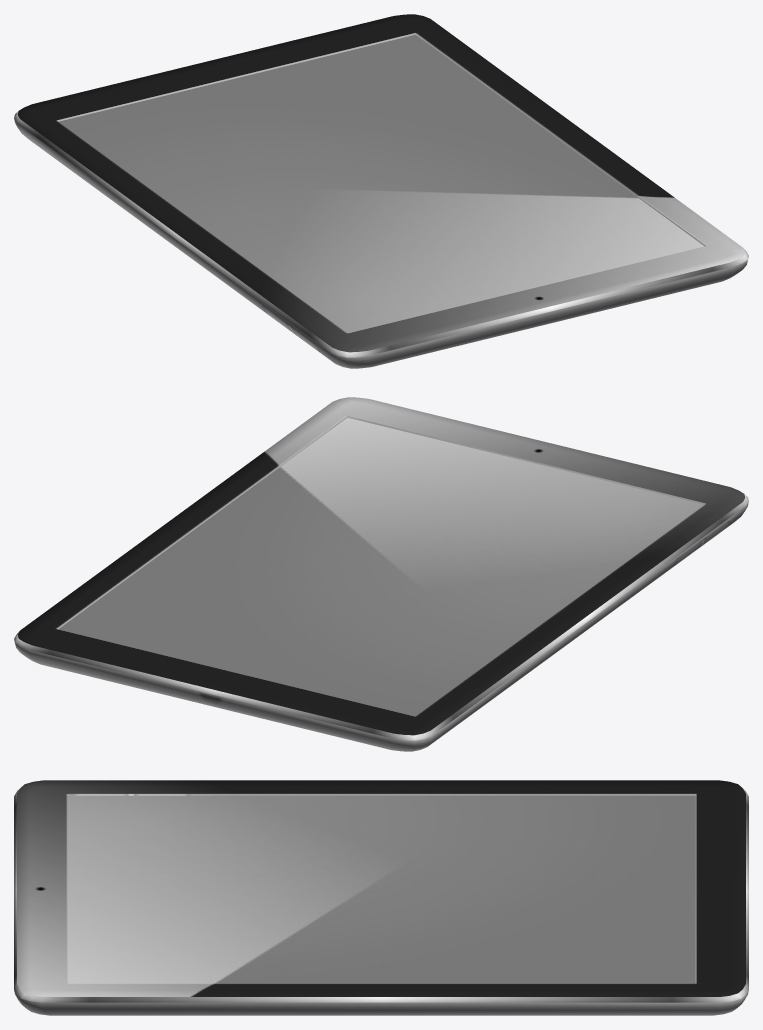
Rendered from tablet.glb.
The picture shows the model from 3 angles, top to bottom: view 1: azimuth 30°, elevation 25°; view 2: azimuth 150°, elevation 25°; view 3: azimuth 270°, elevation 25°; orthographic projection. The views are drawn at different scales.
Parts seen in each view (by area): view 1: Object_0.002; view 2: Object_0.002; view 3: Object_0.002.
Boxes of the visible parts, left/top/right/bottom form: Object_0.002: left=14, top=14, right=748, bottom=368; Object_0.002: left=14, top=397, right=748, bottom=751; Object_0.002: left=14, top=780, right=748, bottom=1015.
Bounding box in the file's own units: 0.125 × 0.00619 × 0.1771.
Materials: 2 (2 with a texture image).
